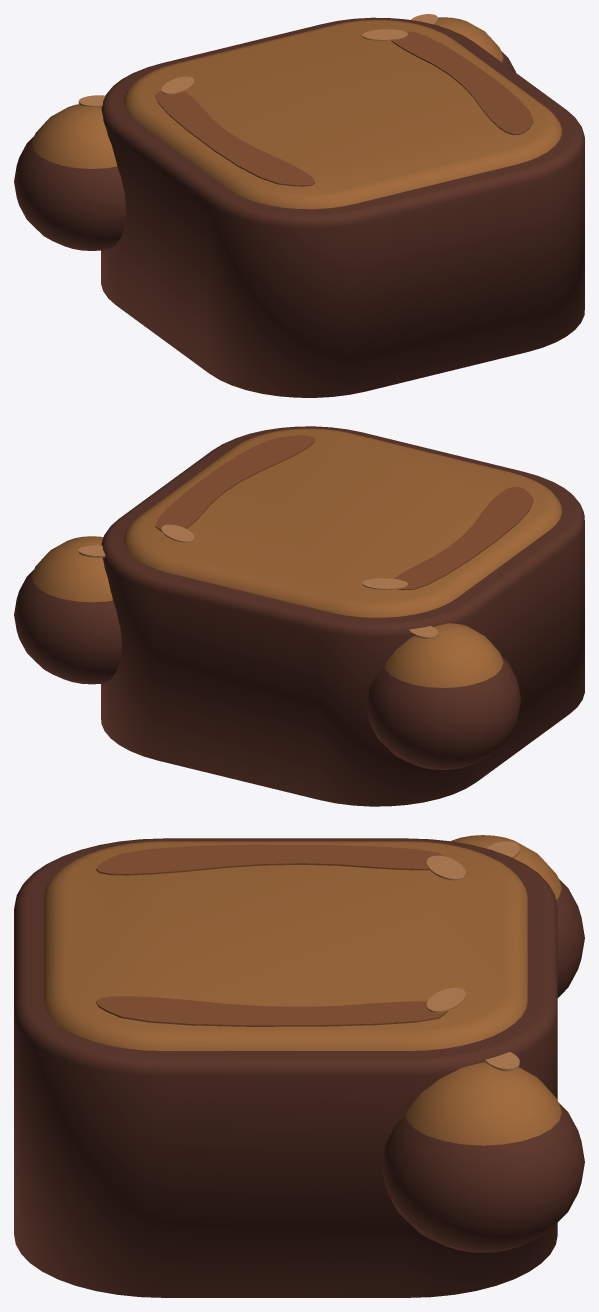
File: body_basico_bronze.fbx
3 renders of one model, top to bottom at view 1: azimuth 30°, elevation 25°; view 2: azimuth 150°, elevation 25°; view 3: azimuth 270°, elevation 25°, orthographic. The views are drawn at different scales.
Visible parts, largest first — view 1: body_basico_bronze_corpo, body_basico_bronze_mao_esq, body_basico_bronze_mao; view 2: body_basico_bronze_corpo, body_basico_bronze_mao_esq, body_basico_bronze_mao; view 3: body_basico_bronze_corpo, body_basico_bronze_mao, body_basico_bronze_mao_esq.
Part boxes in pixels (x1,y1,x2,y2): body_basico_bronze_corpo: (101,17,584,397); body_basico_bronze_mao_esq: (14,95,125,250); body_basico_bronze_mao: (411,14,515,72); body_basico_bronze_corpo: (101,426,584,806); body_basico_bronze_mao_esq: (366,623,520,769); body_basico_bronze_mao: (14,536,121,684); body_basico_bronze_corpo: (14,838,557,1297); body_basico_bronze_mao: (382,1052,584,1252); body_basico_bronze_mao_esq: (451,835,584,997).
Bounding box in the file's own units: 5.4 × 2.03 × 4.2.
1 material, 1 textured.
